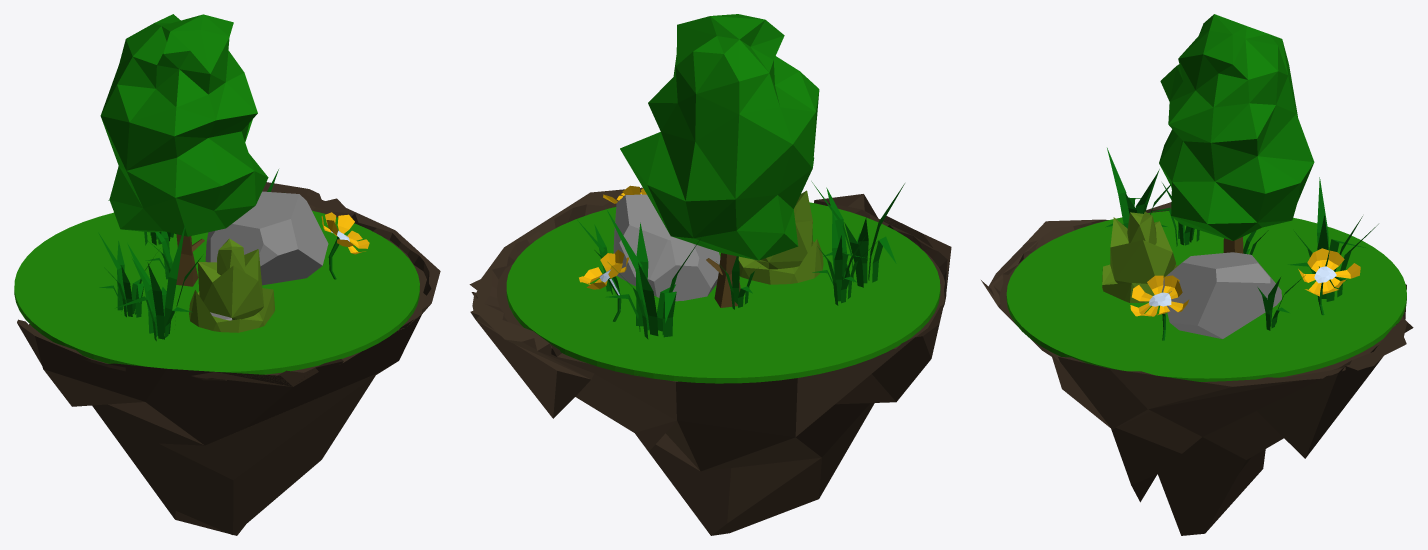
The model's file is medium1disc.gltf.
The picture shows the model from 3 angles, left to right: view 1: azimuth 30°, elevation 25°; view 2: azimuth 150°, elevation 25°; view 3: azimuth 270°, elevation 25°; orthographic projection. The views are drawn at different scales.
Parts seen in each view (by area): view 1: Bedrock.001, Ground.001, Tree5Group3, Rock.001, Bush2, Grass-m.002, Grass-m.005, flower2.002; view 2: Bedrock.001, Ground.001, Tree5Group3, Rock.001, Bush2, Grass-m.001, Grass-m.002, Grass-m.005, flower2.001, Grass-s.002; view 3: Ground.001, Bedrock.001, Tree5Group3, Rock.001, Bush2, flower2.001, flower2.002, Grass-m.001, Grass-m.002, Grass-s.001.
Part boxes in pixels (box(x1,y1,x2,y2)): Bedrock.001: box(17, 182, 440, 535); Ground.001: box(14, 210, 419, 374); Tree5Group3: box(100, 14, 268, 286); Rock.001: box(205, 191, 328, 285); Bush2: box(189, 238, 274, 332); Grass-m.002: box(115, 224, 201, 341); Grass-m.005: box(98, 232, 153, 317); flower2.002: box(321, 212, 369, 279); Bedrock.001: box(469, 187, 951, 535); Ground.001: box(506, 202, 940, 383); Tree5Group3: box(620, 14, 819, 307); Rock.001: box(613, 194, 720, 301); Bush2: box(738, 190, 823, 284); Grass-m.001: box(605, 208, 700, 339); Grass-m.002: box(811, 181, 904, 287); Grass-m.005: box(812, 208, 877, 305); flower2.001: box(579, 249, 629, 321); Grass-s.002: box(716, 256, 762, 309); Ground.001: box(1006, 211, 1406, 381); Bedrock.001: box(981, 202, 1413, 535); Tree5Group3: box(1159, 14, 1314, 253); Rock.001: box(1162, 252, 1281, 338); Bush2: box(1102, 211, 1177, 302); flower2.001: box(1298, 248, 1360, 315); flower2.002: box(1130, 275, 1188, 340); Grass-m.001: box(1288, 177, 1378, 301); Grass-m.002: box(1105, 148, 1170, 228); Grass-s.001: box(1257, 275, 1305, 330).
Bounding box in the file's own units: 1.83 × 2.29 × 1.8.
